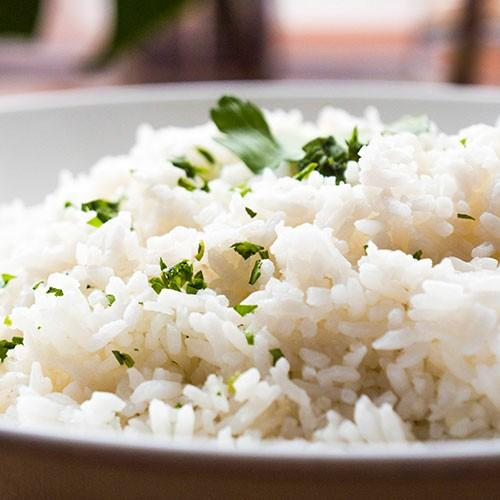WhiteRice: (0, 95, 500, 442)
